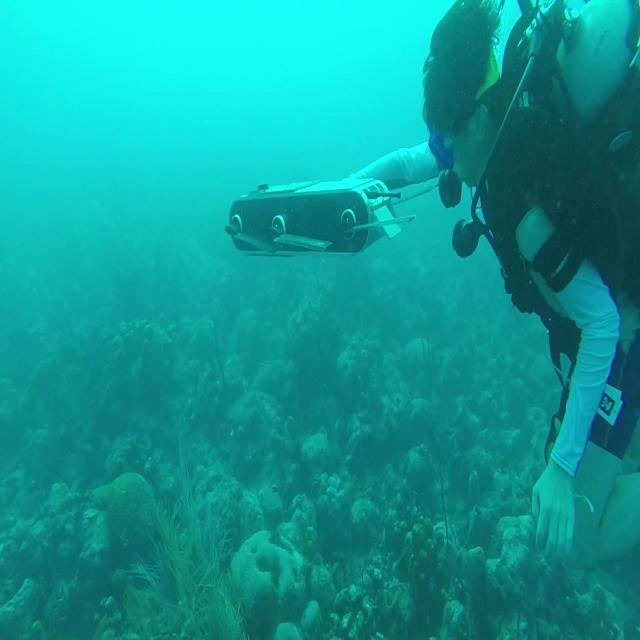human: (421, 0, 638, 565)
